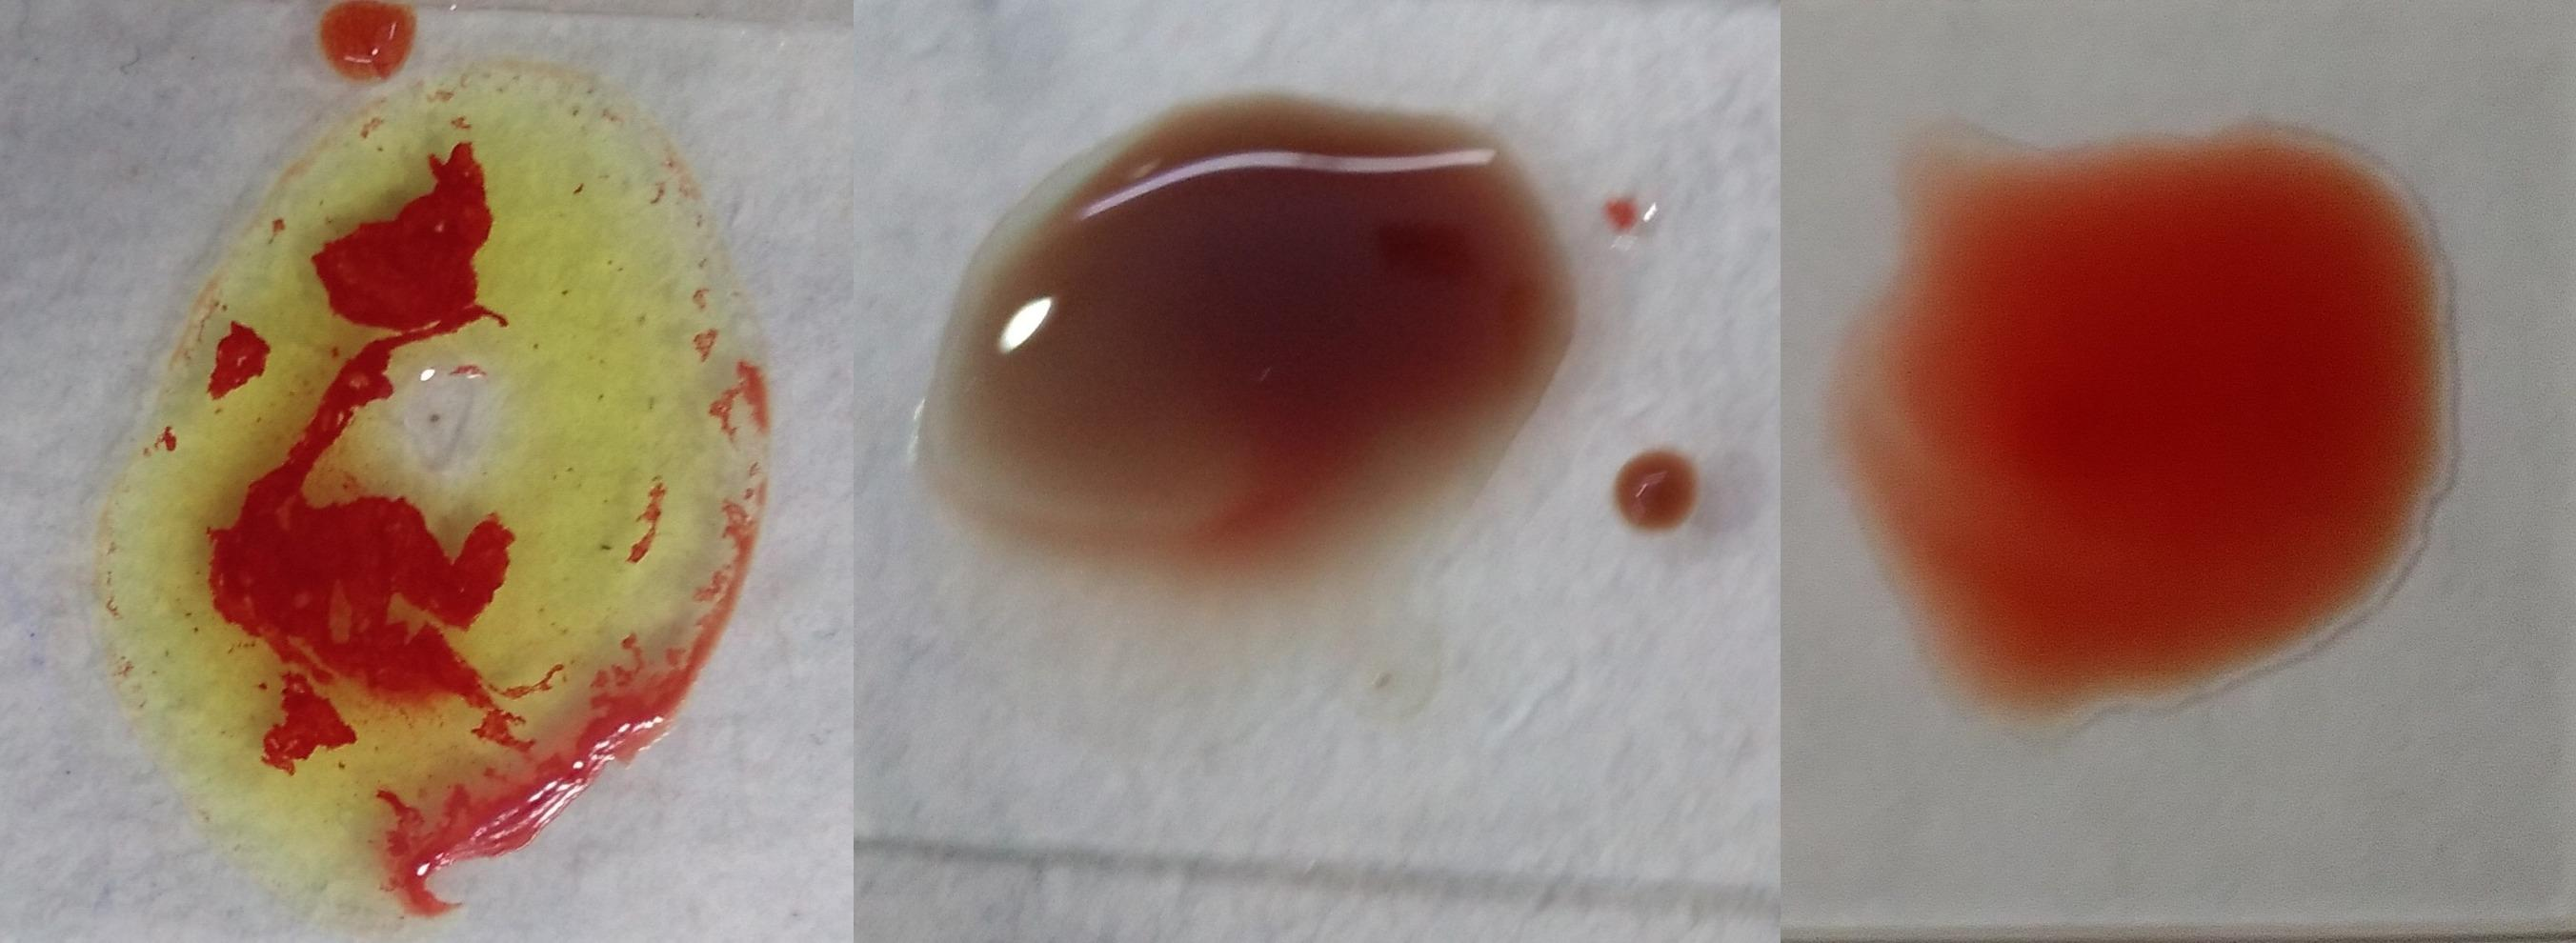B: (102, 62, 762, 894)
